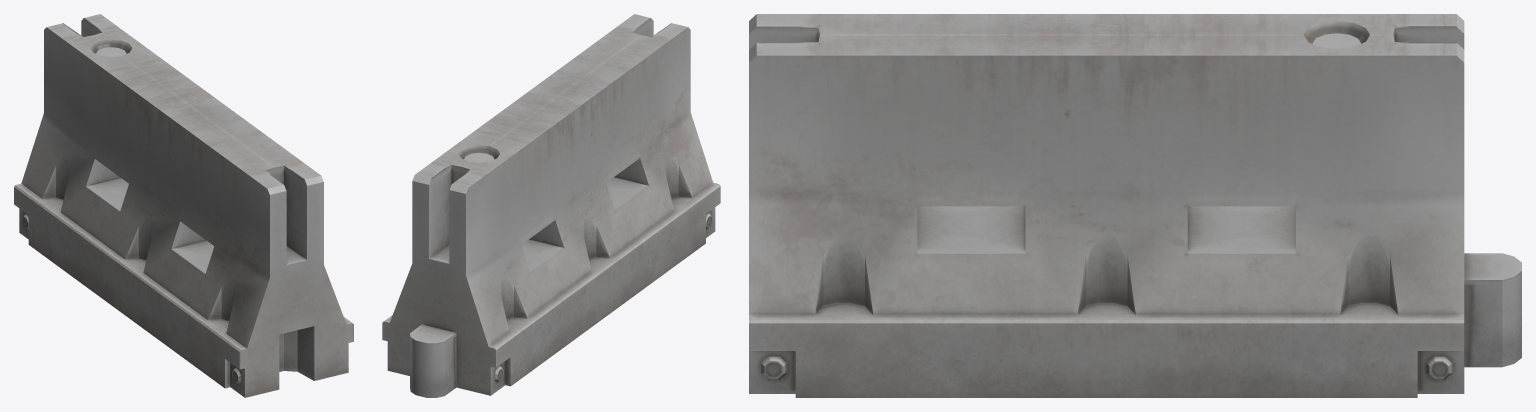
Rendered from PlasticBarrier.FBX.
The picture shows the model from 3 angles, left to right: view 1: azimuth 30°, elevation 25°; view 2: azimuth 150°, elevation 25°; view 3: azimuth 270°, elevation 25°; orthographic projection. The views are drawn at different scales.
Visible parts, largest first — view 1: PlasticBarrier01; view 2: PlasticBarrier01; view 3: PlasticBarrier01.
Part boxes in pixels (x1,y1,x2,y2): PlasticBarrier01: [14, 14, 353, 397]; PlasticBarrier01: [382, 14, 720, 397]; PlasticBarrier01: [749, 14, 1521, 397].
Bounding box in the file's own units: 0.4383 × 0.738 × 1.62.
Materials: 1 (1 with a texture image).
